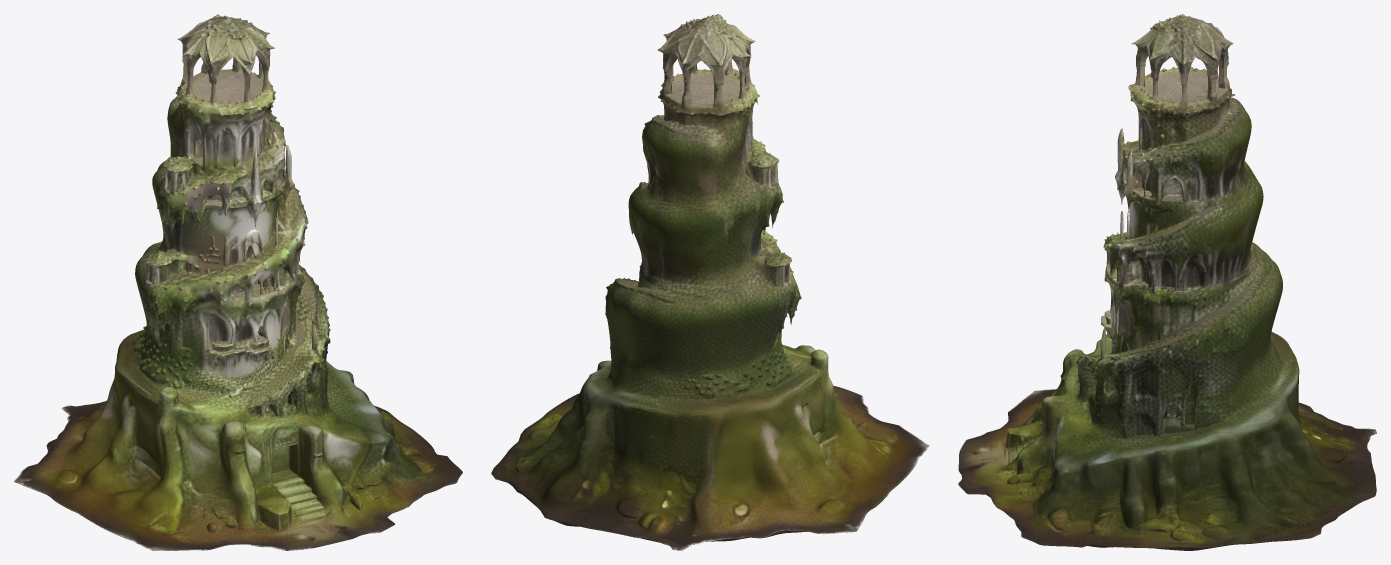
File: hollow.glb
The picture shows the model from 3 angles, left to right: view 1: azimuth 30°, elevation 25°; view 2: azimuth 150°, elevation 25°; view 3: azimuth 270°, elevation 25°; orthographic projection.
Parts seen in each view (by area): view 1: model; view 2: model; view 3: model.
Boxes of the visible parts, x1,y1,x2,y2 form: model: [14, 14, 462, 550]; model: [491, 14, 929, 550]; model: [958, 14, 1376, 550].
Bounding box in the file's own units: 1.53 × 1.9 × 1.57.
1 material, 1 textured.
